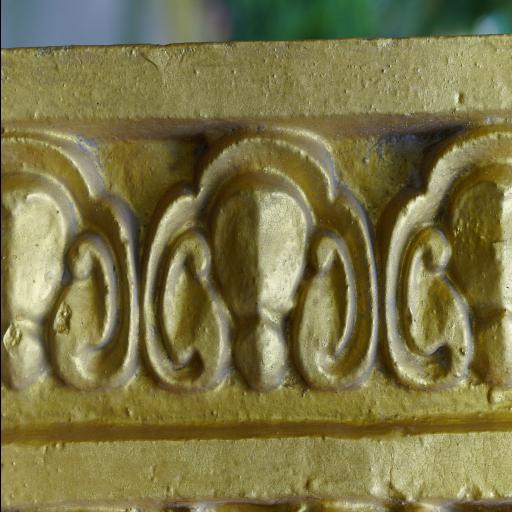la: (133, 106, 385, 438), (0, 94, 153, 444), (369, 106, 512, 408)
